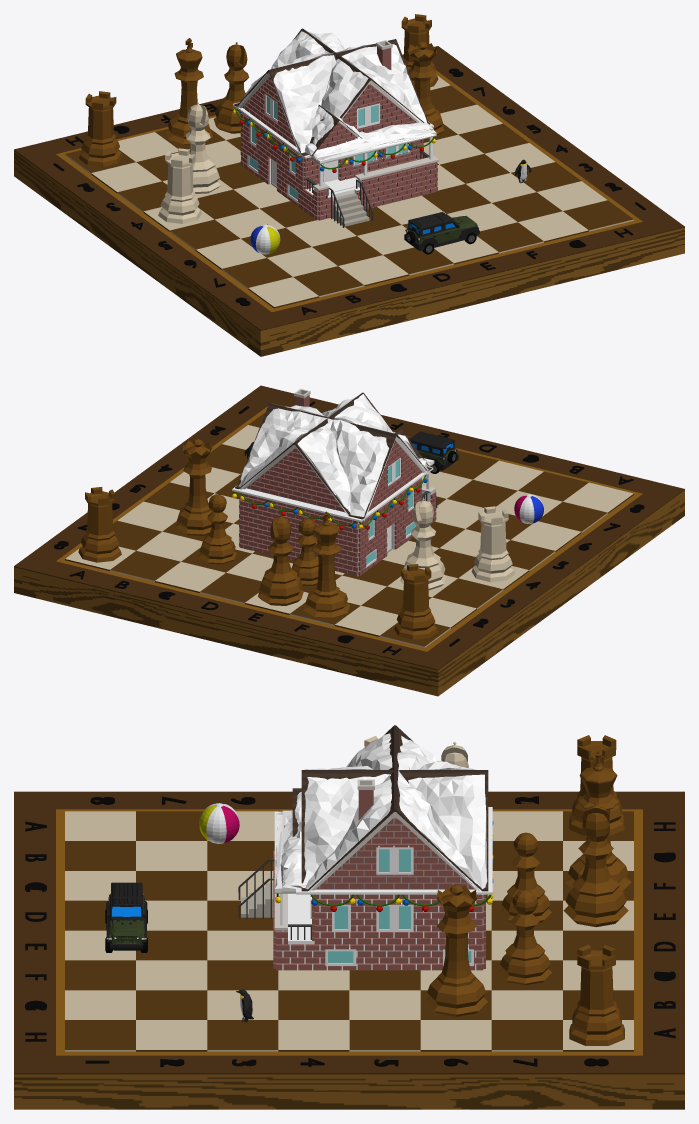
3 views of the same model, one above another, from view 1: azimuth 30°, elevation 25°; view 2: azimuth 150°, elevation 25°; view 3: azimuth 270°, elevation 25° (orthographic). The views are drawn at different scales.
Visible parts, largest first — view 1: Cube.002, Cube.1419, VEHICLES_JEEP, OBJRANDOM_BEACHBALL; view 2: Cube.002, Cube.1419, VEHICLES_JEEP, OBJRANDOM_BEACHBALL; view 3: Cube.002, Cube.1419, VEHICLES_JEEP, OBJRANDOM_BEACHBALL.
Part boxes in pixels (box(x1,y1,x2,y2)): Cube.002: box(14, 14, 684, 356); Cube.1419: box(232, 28, 439, 227); VEHICLES_JEEP: box(404, 212, 479, 254); OBJRANDOM_BEACHBALL: box(250, 224, 280, 254); Cube.002: box(14, 385, 684, 696); Cube.1419: box(232, 388, 437, 576); VEHICLES_JEEP: box(407, 431, 458, 473); OBJRANDOM_BEACHBALL: box(514, 494, 543, 523); Cube.002: box(14, 735, 684, 1109); Cube.1419: box(238, 725, 493, 970); VEHICLES_JEEP: box(105, 882, 147, 952); OBJRANDOM_BEACHBALL: box(199, 803, 239, 843).
Bounding box in the file's own units: 3981 × 1507 × 4012.
Materials: 41 (3 with a texture image).
